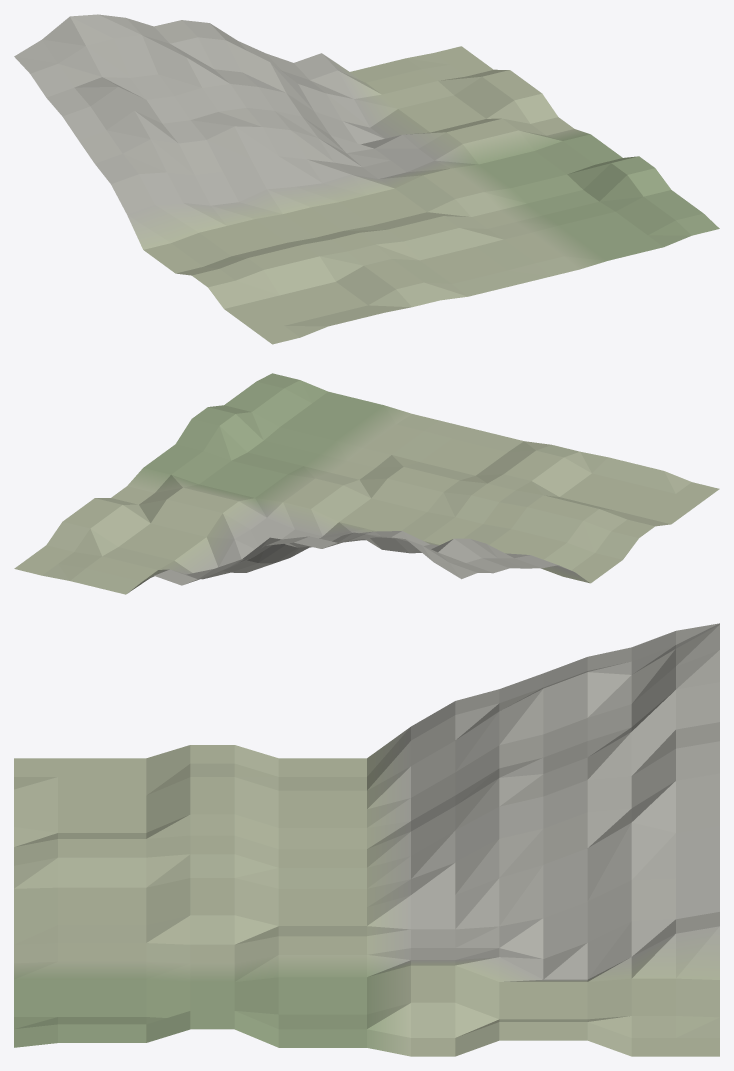
3 views of the same model, one above another, from view 1: azimuth 30°, elevation 25°; view 2: azimuth 150°, elevation 25°; view 3: azimuth 270°, elevation 25° (orthographic). The views are drawn at different scales.
Bounding box in the file's own units: 32 × 9.38 × 32.
